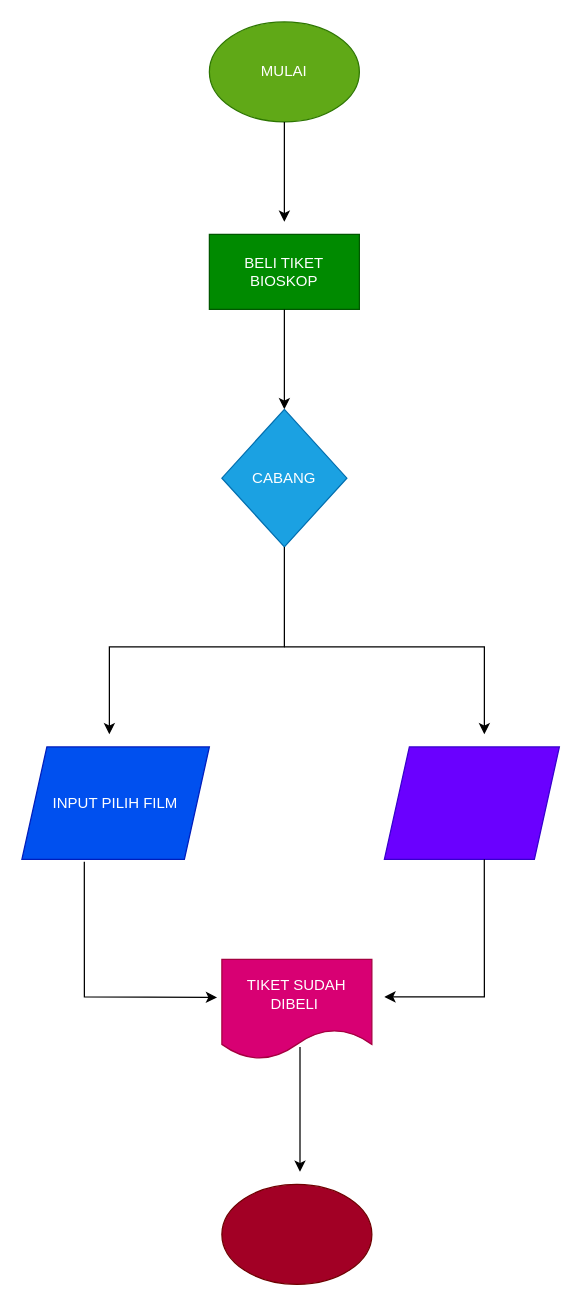
Some shapes in this 581 by 1306 pixel diagram are drawn without their labels. The shapes that lost their labels are listed below. From the top down, each one's centre as x and y in pixels, then its label:
At point 471,802: "INPUT PILIH KURSI".
At point 296,1233: "BOLEH NONTON FILM".
